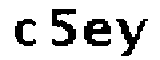5: (46, 5, 79, 49)
c: (10, 16, 38, 49)
e: (83, 17, 114, 48)
y: (115, 15, 150, 58)
